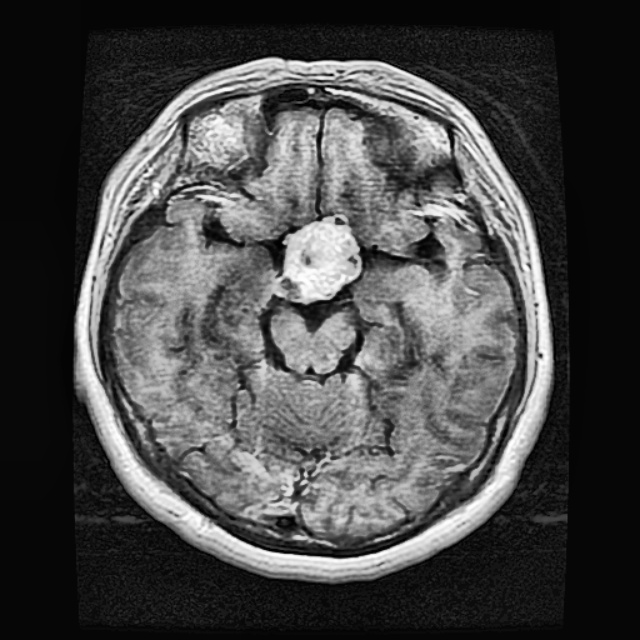Pituitary: (283, 220, 360, 295)
